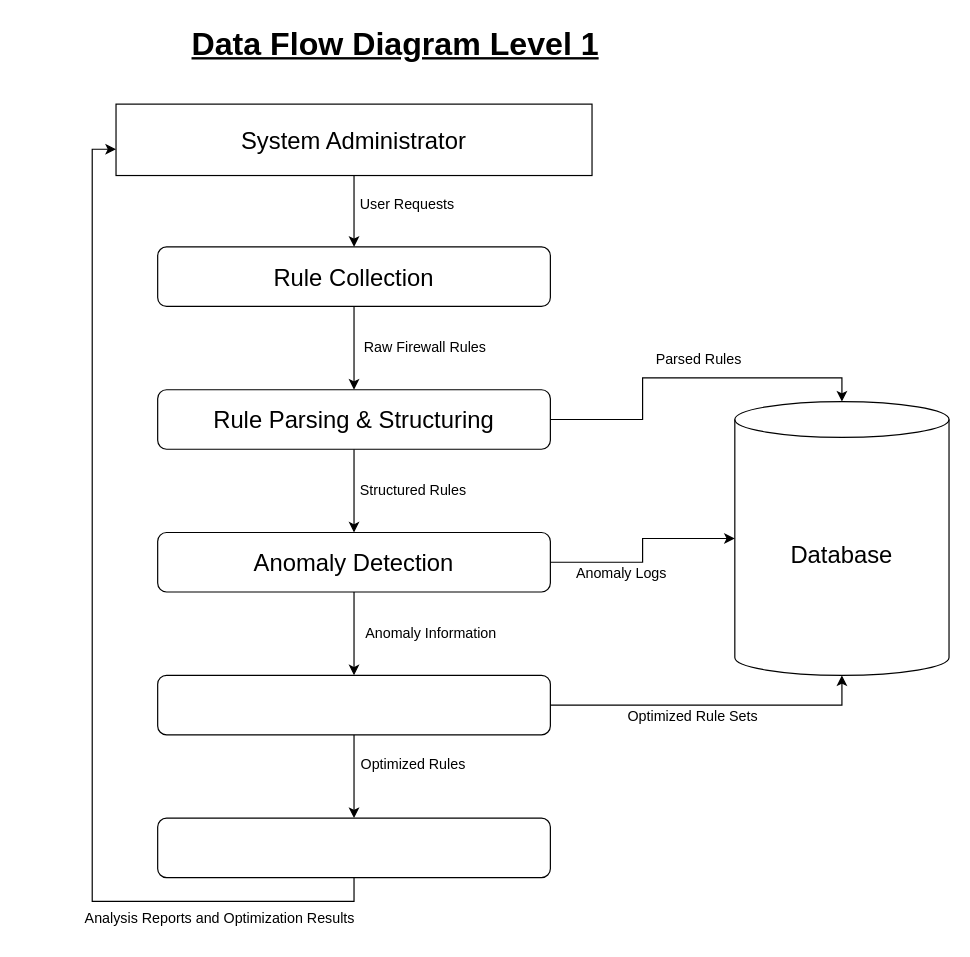
This 970x957 diagram has some shape labels left out. Each missing label, with the centre of its shape:
Optimization Engine: the point at 353,704
Report Generation: the point at 353,847
